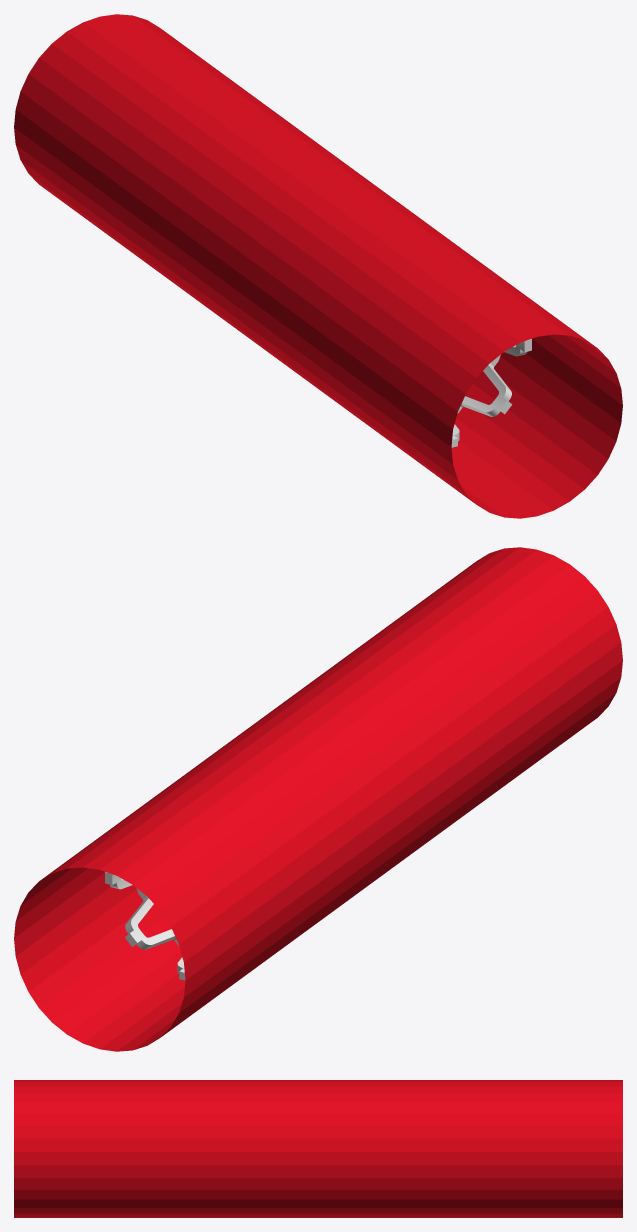
Rendered from application-medical.glb.
3 renders of one model, top to bottom at view 1: azimuth 30°, elevation 25°; view 2: azimuth 150°, elevation 25°; view 3: azimuth 270°, elevation 25°, orthographic. The views are drawn at different scales.
Parts seen in each view (by area): view 1: Cylinder, part-4; view 2: Cylinder, part-1; view 3: Cylinder.
Part boxes in pixels (x1,y1,x2,y2): Cylinder: (14, 14, 622, 518); part-4: (451, 339, 531, 447); Cylinder: (14, 547, 622, 1051); part-1: (105, 872, 185, 980); Cylinder: (14, 1080, 622, 1217).
Size of the model in its own units: 44.48 by 44.48 by 196.
